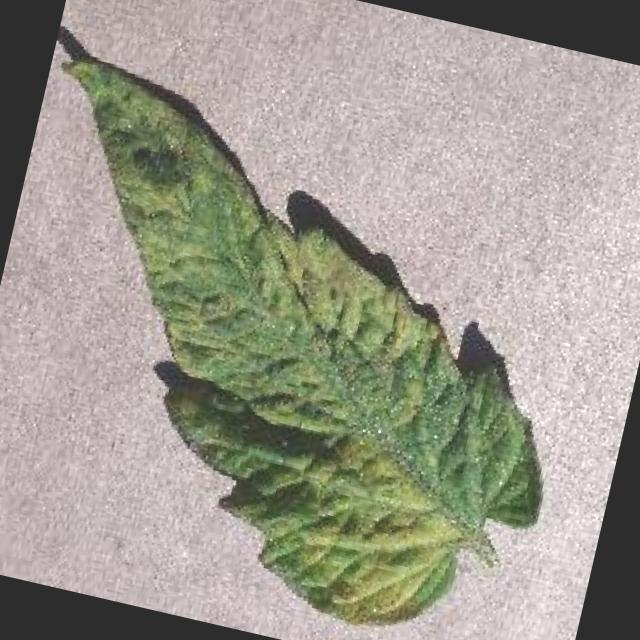leaf mold: (65, 63, 545, 627)
